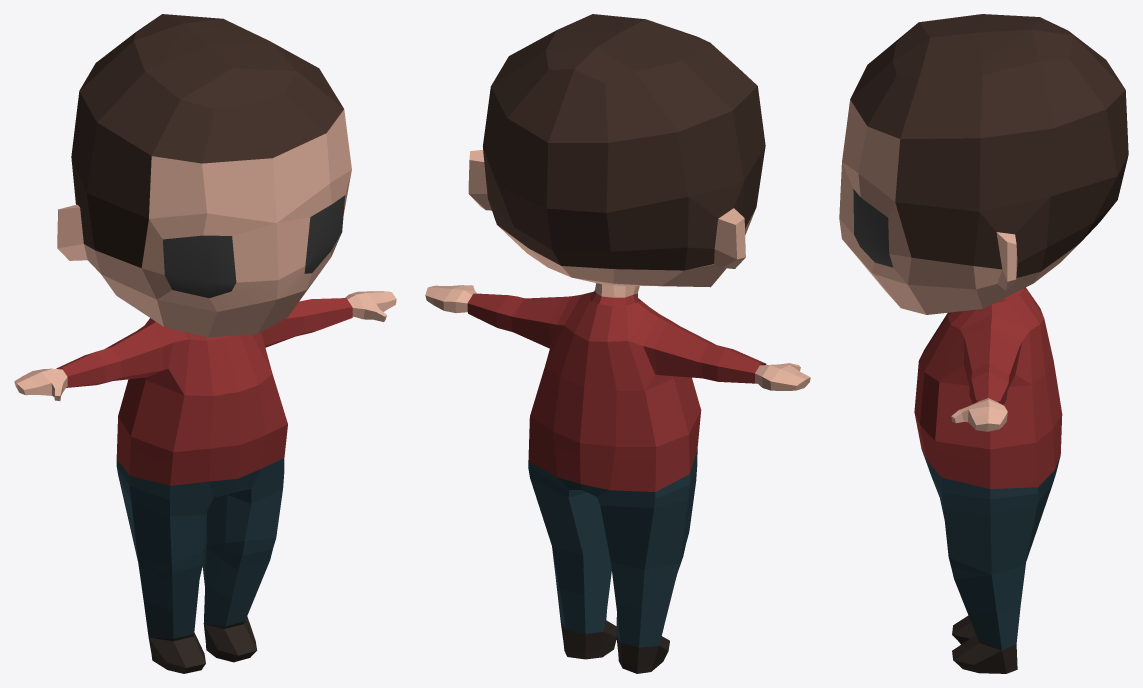
Rendered from Mats character.fbx.
3 views of the same model, side by side, from view 1: azimuth 30°, elevation 25°; view 2: azimuth 150°, elevation 25°; view 3: azimuth 270°, elevation 25° (orthographic).
Parts seen in each view (by area): view 1: body1; view 2: body1; view 3: body1.
Part boxes in pixels (<box>): body1: <box>14,14,396,673</box>; body1: <box>425,14,810,673</box>; body1: <box>839,14,1128,673</box>.
Size of the model in its own units: 1.01 by 1.59 by 0.6705.
